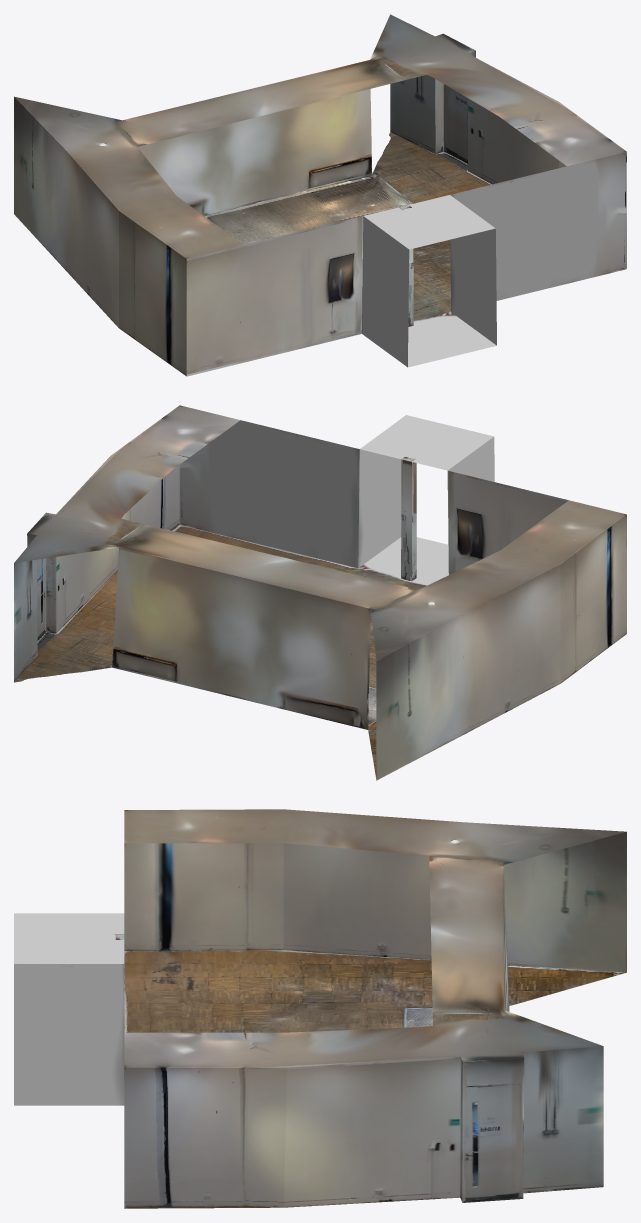
File: atrium_lp.fbx
The picture shows the model from 3 angles, top to bottom: view 1: azimuth 30°, elevation 25°; view 2: azimuth 150°, elevation 25°; view 3: azimuth 270°, elevation 25°; orthographic projection. The views are drawn at different scales.
Parts seen in each view (by area): view 1: 1 Atrium lp; view 2: 1 Atrium lp; view 3: 1 Atrium lp.
Boxes of the visible parts, x1,y1,x2,y2 form: 1 Atrium lp: [14, 14, 626, 376]; 1 Atrium lp: [14, 405, 626, 780]; 1 Atrium lp: [14, 809, 626, 1208].
Bounding box in the file's own units: 1186 × 302 × 1189.
1 material, 1 textured.
